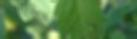Tomato leaf bacterial spot: (48, 0, 109, 39)
